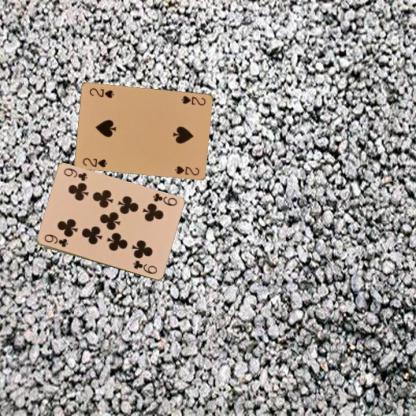2s: (80, 155, 109, 169), (179, 93, 207, 107)
9c: (150, 191, 178, 208), (42, 232, 68, 248)
